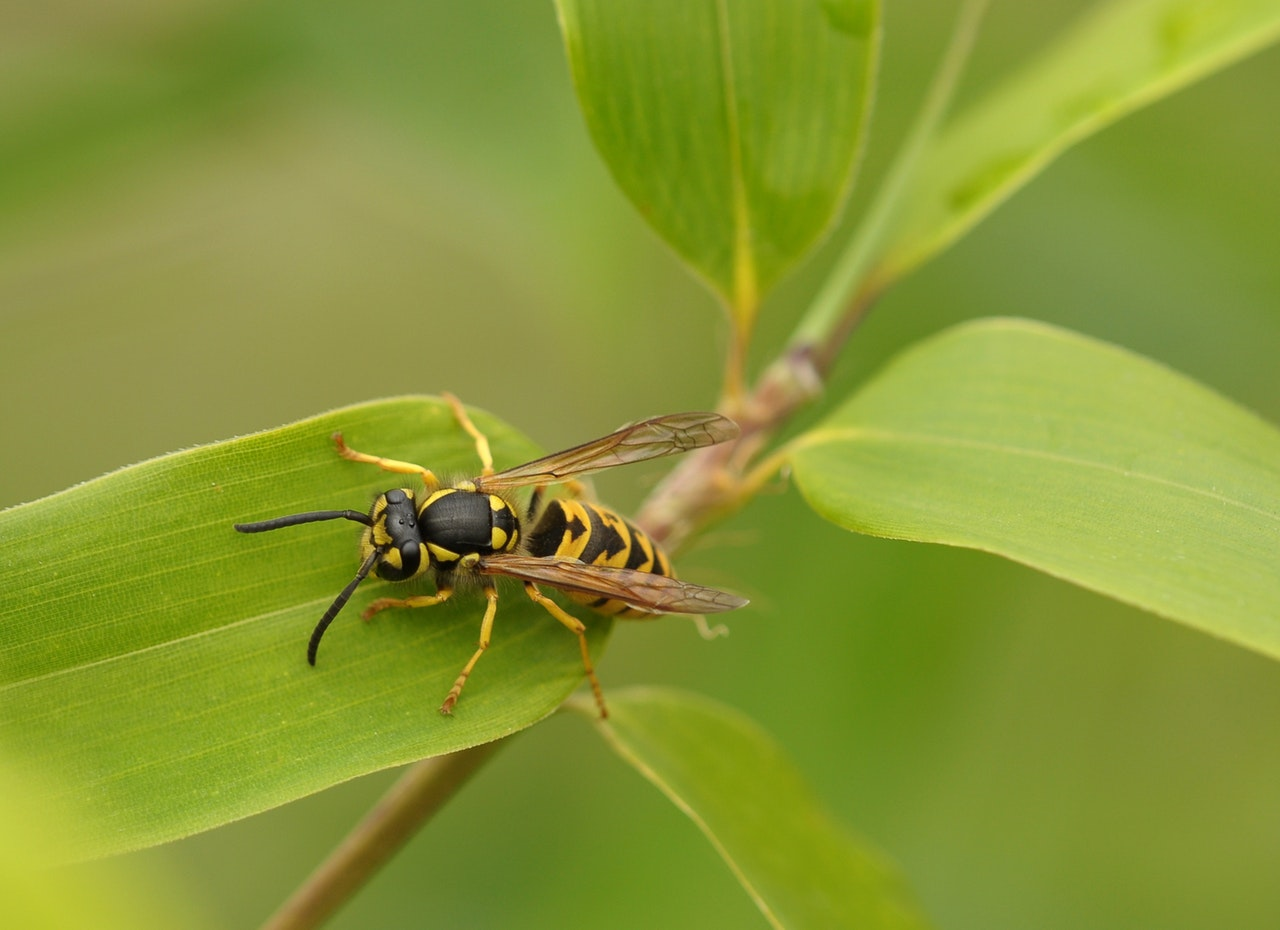insect: (233, 411, 749, 720)
